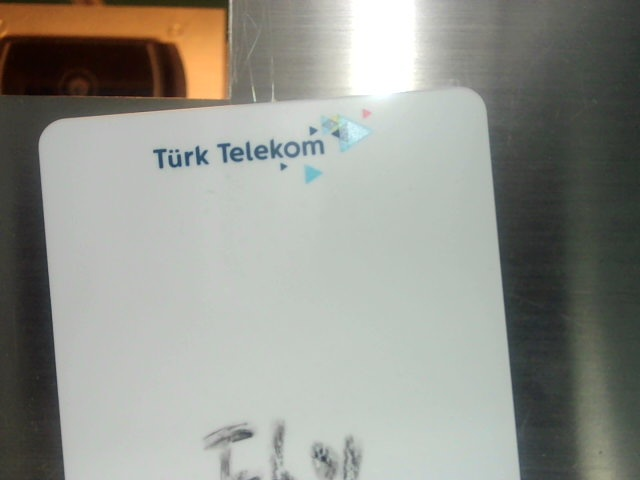AQ_TURKTelekom: (143, 116, 397, 189)
